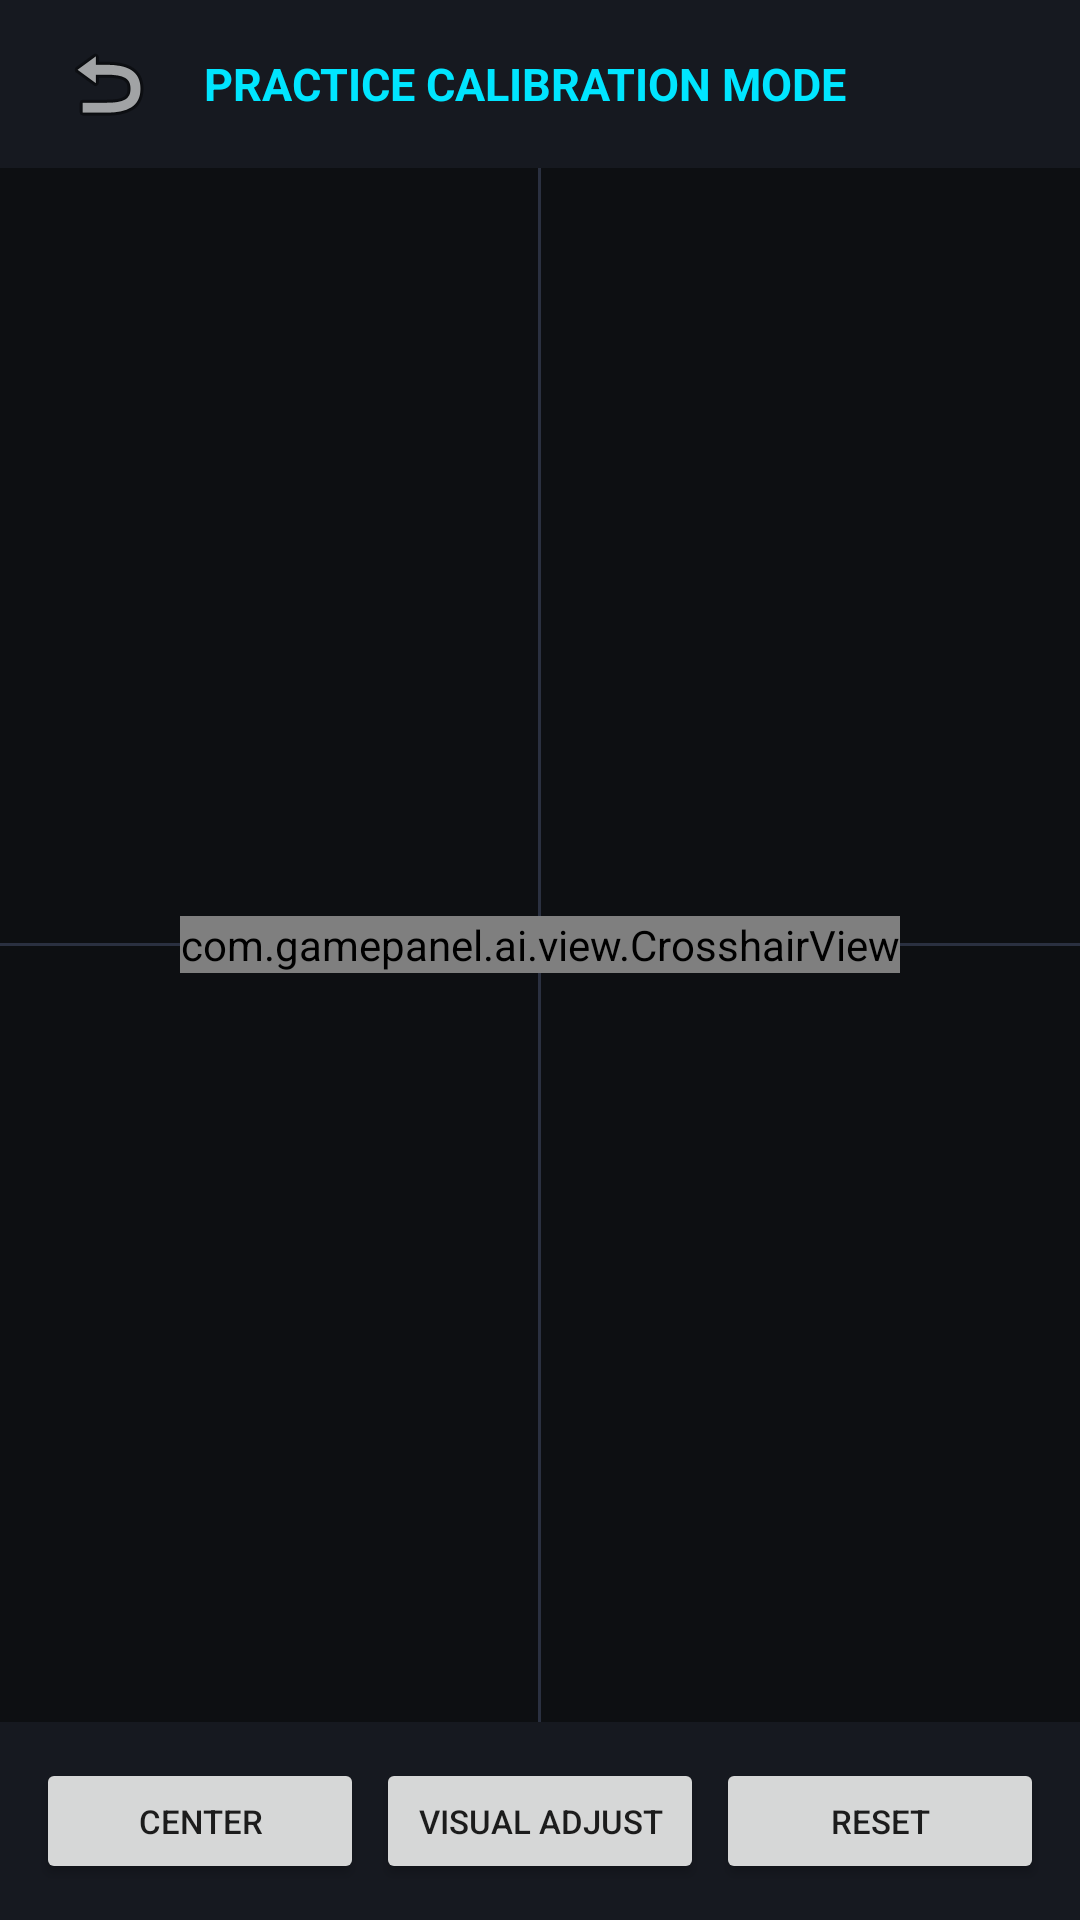

Where icons sit on this 1080x1920 app screen, as (x1, y1, x2, y2):
Back: (78, 56, 141, 113)
